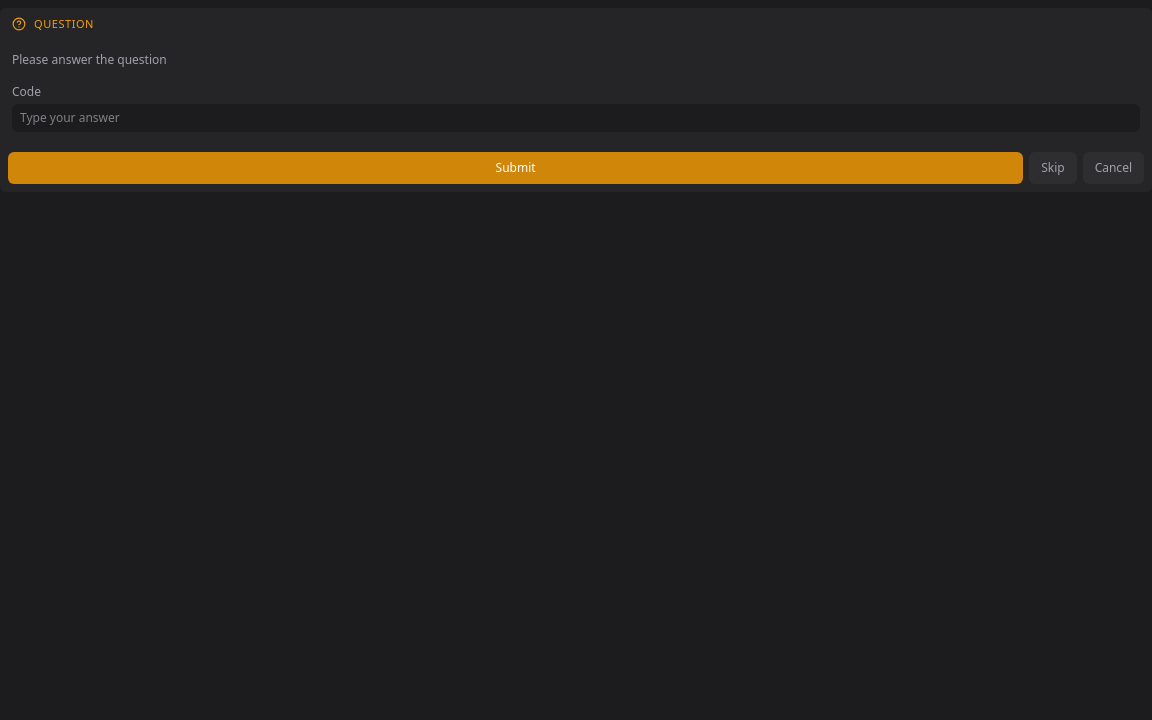
it: AskUserQuestionCard free_text › flags a too-long value against max_length
Type "toolong" into the field with placeholder "Type your answer".
click(576, 118); type("toolong")  # box x1=12 y1=104 x2=1140 y2=132
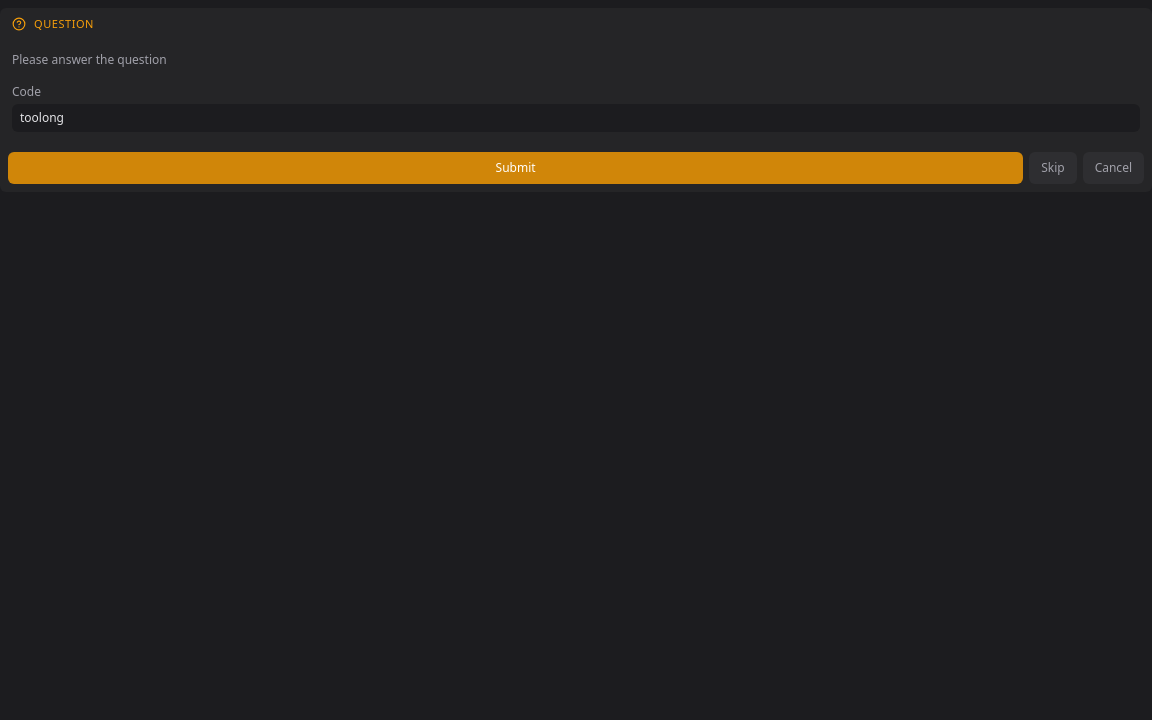
Click the button "Submit".
click(516, 168)  # box x1=8 y1=152 x2=1023 y2=184
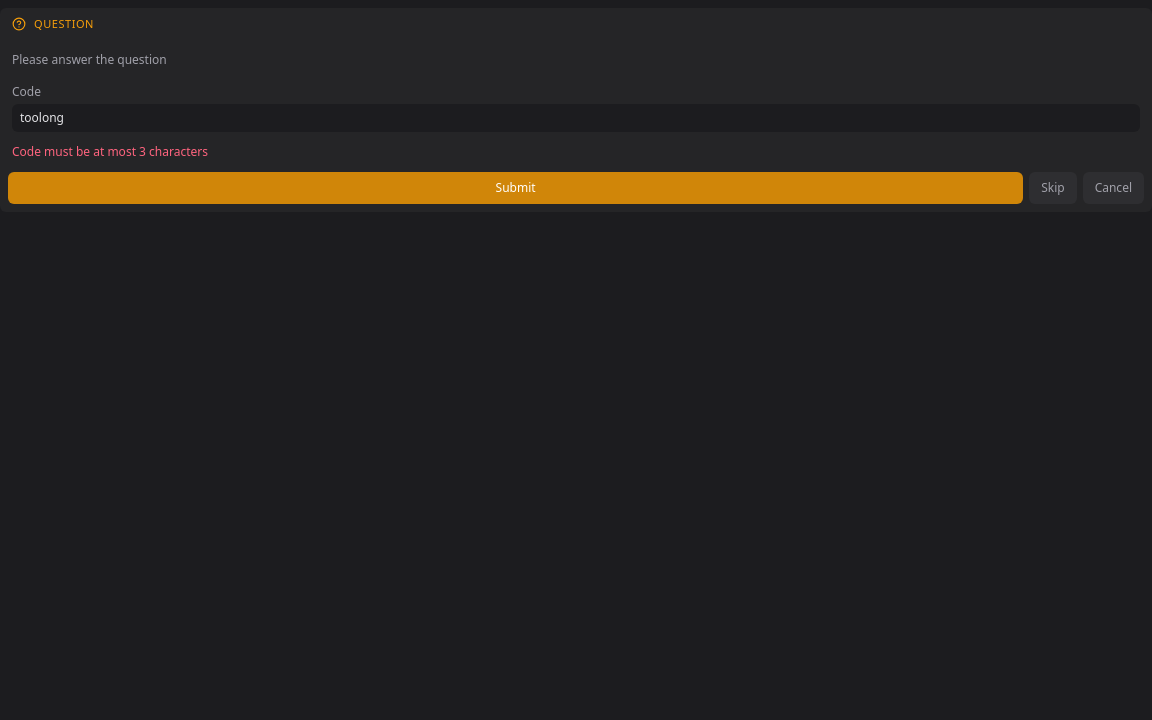
Now the text "Code must be at most 3 characters" is shown, box x1=12 y1=143 x2=208 y2=160
